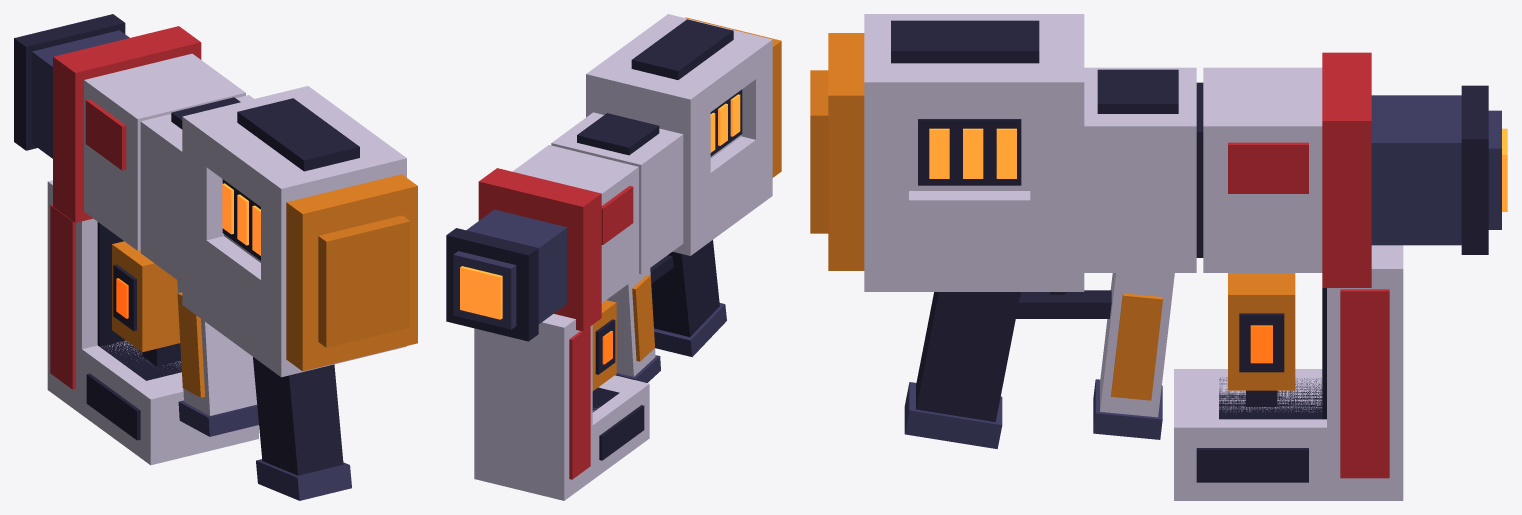
Rendered from heavy_gun.lod1.glb.
The picture shows the model from 3 angles, left to right: view 1: azimuth 30°, elevation 25°; view 2: azimuth 150°, elevation 25°; view 3: azimuth 270°, elevation 25°; orthographic projection. The views are drawn at different scales.
Visible parts, largest first — view 1: item.heavy_gun.body, part.barrels, part.mag; view 2: item.heavy_gun.body, part.barrels, part.mag; view 3: item.heavy_gun.body, part.barrels, part.mag.
Part boxes in pixels (x1,y1,x2,y2): item.heavy_gun.body: (47,26,417,500); part.barrels: (14,14,129,158); part.mag: (112,241,181,366); item.heavy_gun.body: (474,14,781,500); part.barrels: (446,209,567,341); part.mag: (592,300,616,390); item.heavy_gun.body: (810,14,1403,500); part.barrels: (1371,85,1507,254); part.mag: (1228,273,1295,406).
Bounding box in the file's own units: 0.225 × 0.6688 × 0.9703.
